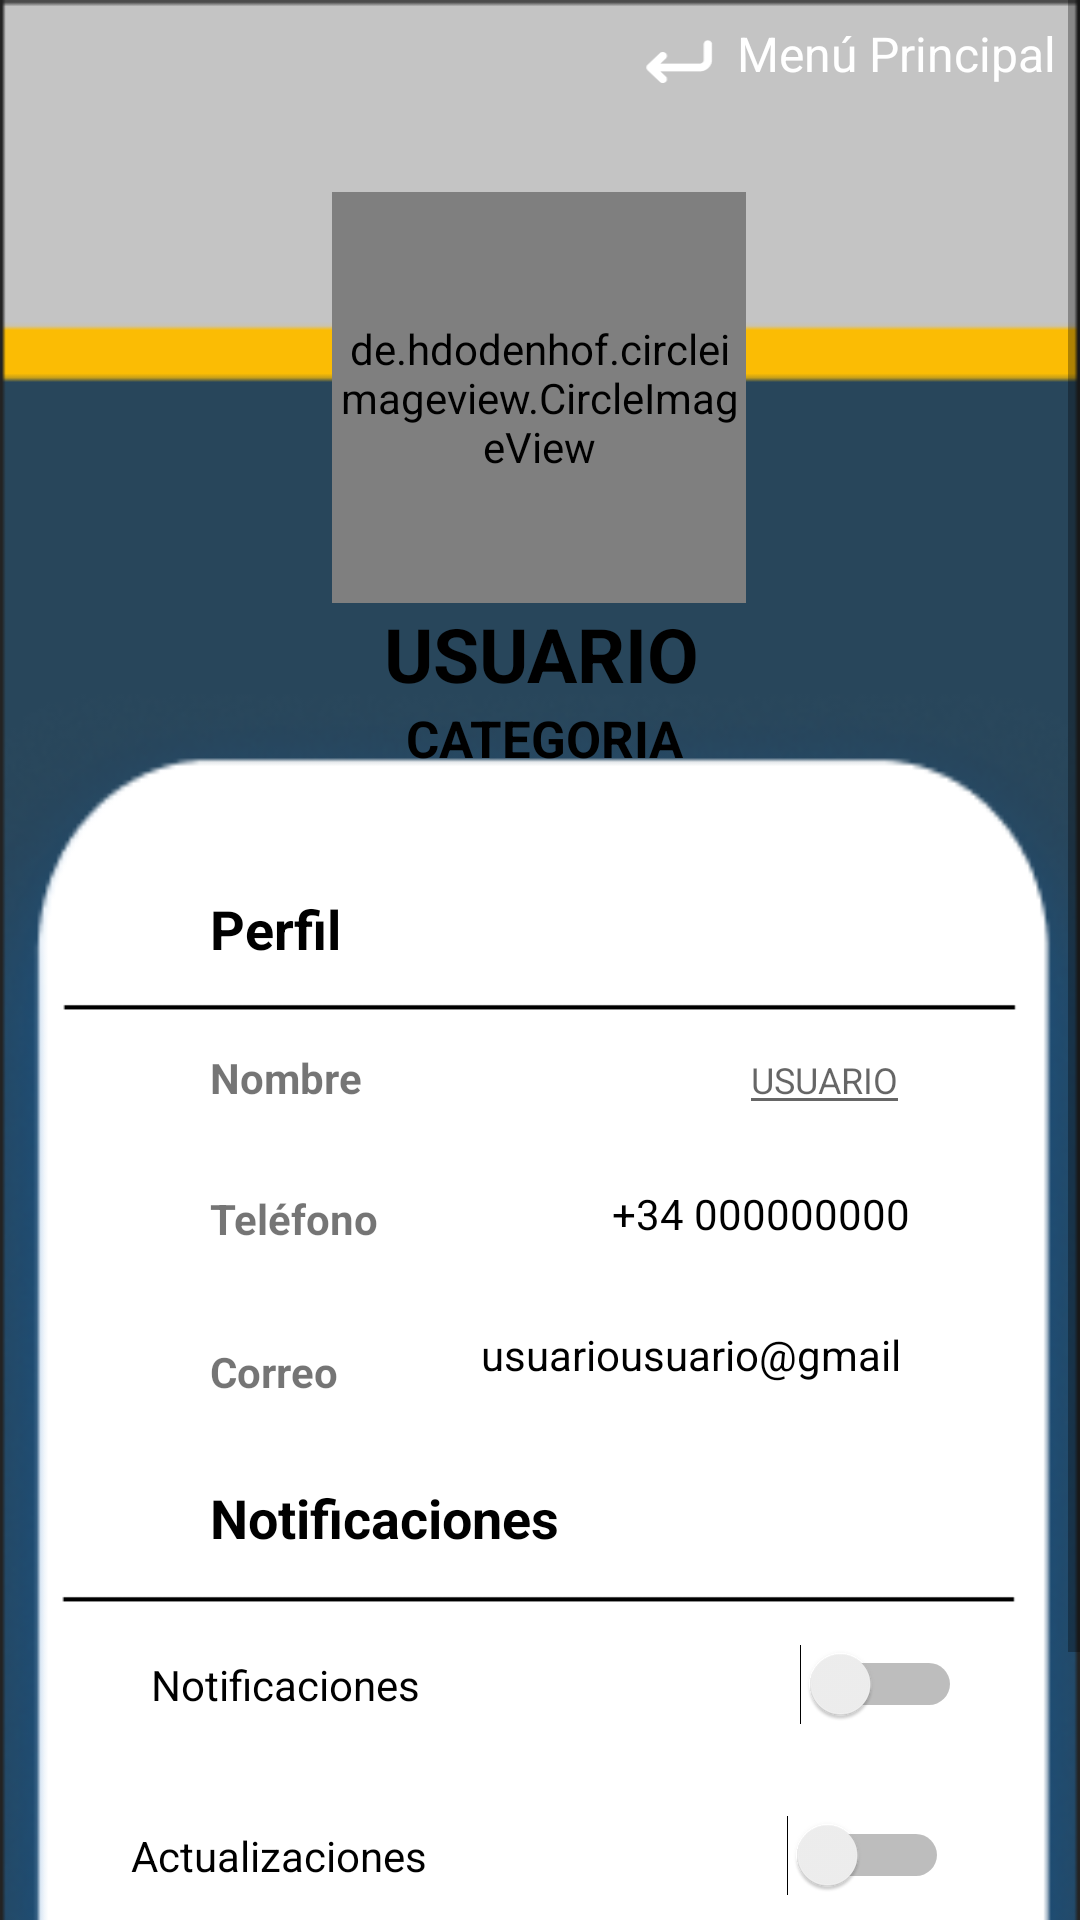

Point at icon controls on the screen. Image size 1080 x 1920, points as [x,y].
volveruser: [679,61]
